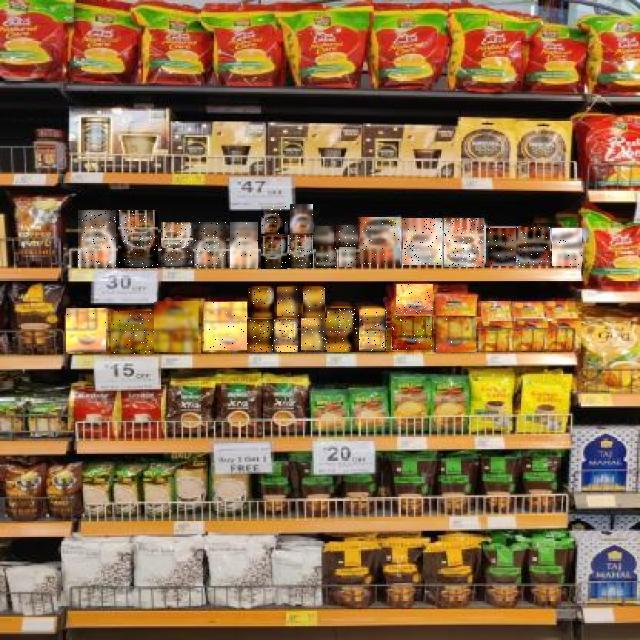Coffee: (119, 210, 159, 268), (154, 302, 198, 352), (78, 210, 116, 267), (204, 302, 247, 350), (444, 218, 484, 267), (360, 218, 400, 266), (111, 311, 154, 354), (403, 218, 442, 265), (66, 308, 106, 352), (194, 222, 226, 267), (161, 222, 193, 267), (436, 317, 476, 353), (392, 316, 433, 350), (516, 228, 550, 268), (328, 308, 358, 352), (230, 223, 258, 269), (360, 309, 390, 351), (487, 228, 517, 266), (552, 229, 582, 267), (396, 284, 433, 314), (287, 235, 313, 268), (261, 236, 287, 269), (247, 319, 273, 352), (302, 319, 328, 351), (274, 319, 298, 352), (249, 288, 275, 317), (262, 206, 288, 234), (303, 287, 325, 318), (290, 204, 313, 233), (278, 287, 300, 316), (336, 225, 358, 246), (316, 247, 336, 269), (315, 226, 334, 246), (340, 247, 358, 267)
